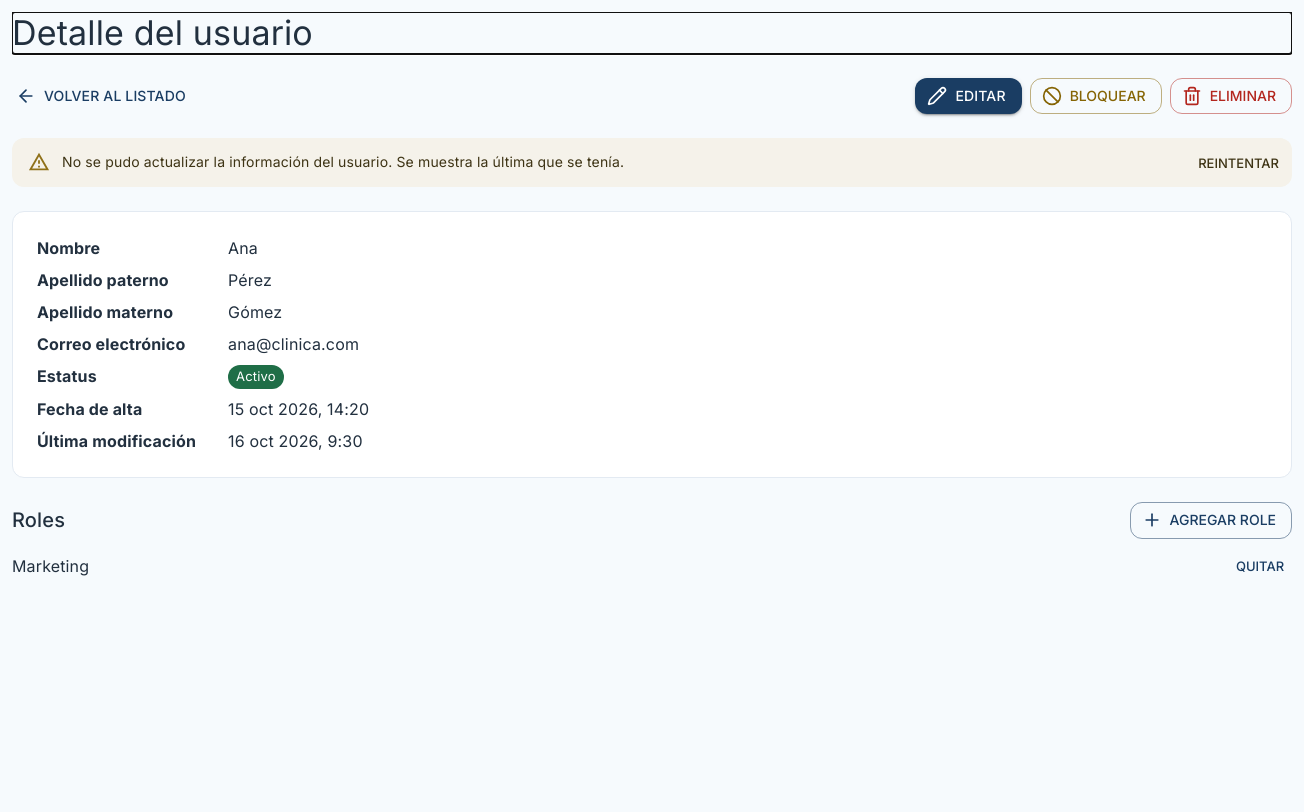
Test: UserDetailPage › when asking for the user again fails › keeps what was shown, says that it may be out of date and offers to try again
Expected: the text "No se pudo actualizar la información del usuario. Se muestra la última que se tenía." is shown, [62, 154, 624, 170]
Expected: the text "ana@clinica.com" is shown, [228, 334, 359, 354]
Click the button "Reintentar" at x=1239, y=164, box [1193, 148, 1284, 179]
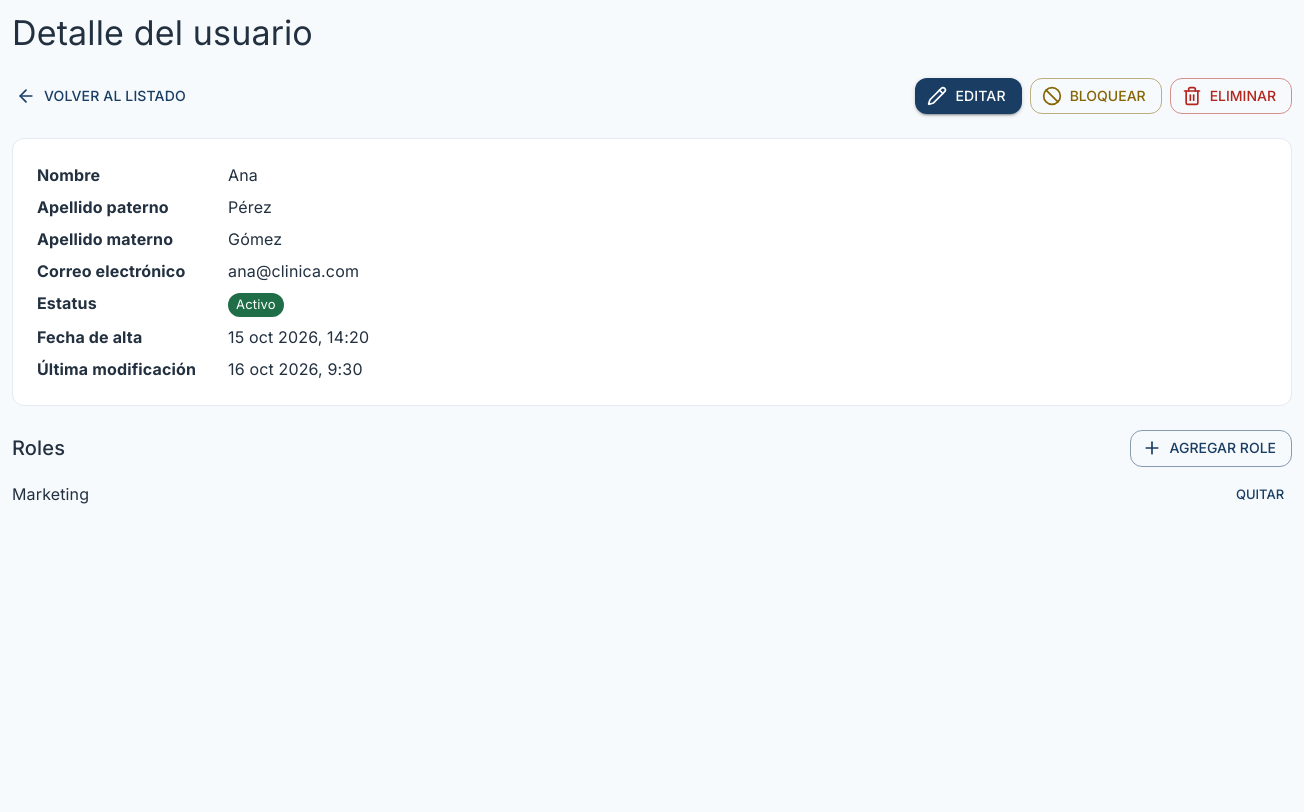
Expected: the text "ana@clinica.com" is shown, [228, 262, 359, 282]
Expected: the text "No se pudo actualizar la información del usuario. Se muestra la última que se tenía." is gone
